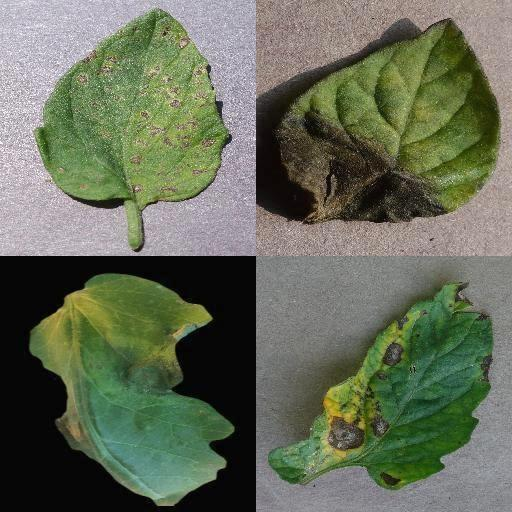Early Blight: (269, 279, 495, 489)
Late Blight: (29, 273, 235, 507), (276, 17, 502, 225)
Septoria: (31, 8, 231, 206)
